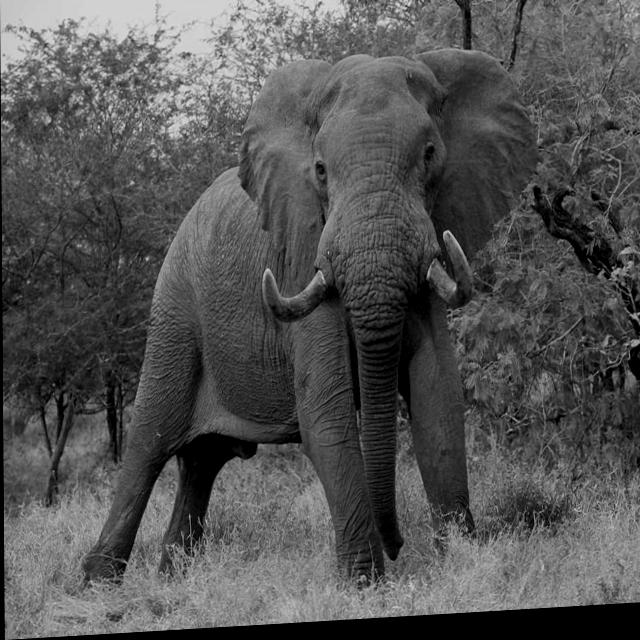Elephant: (76, 40, 543, 608)
